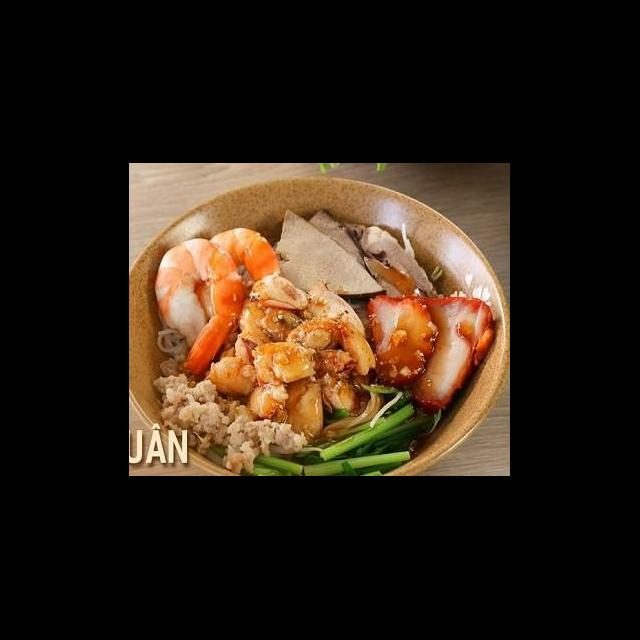gan: (266, 205, 392, 302), (300, 205, 384, 302)
thit bam: (148, 352, 312, 477)
thit heo: (396, 294, 501, 414), (362, 288, 442, 389)
tom: (148, 234, 250, 378), (190, 226, 288, 336)
